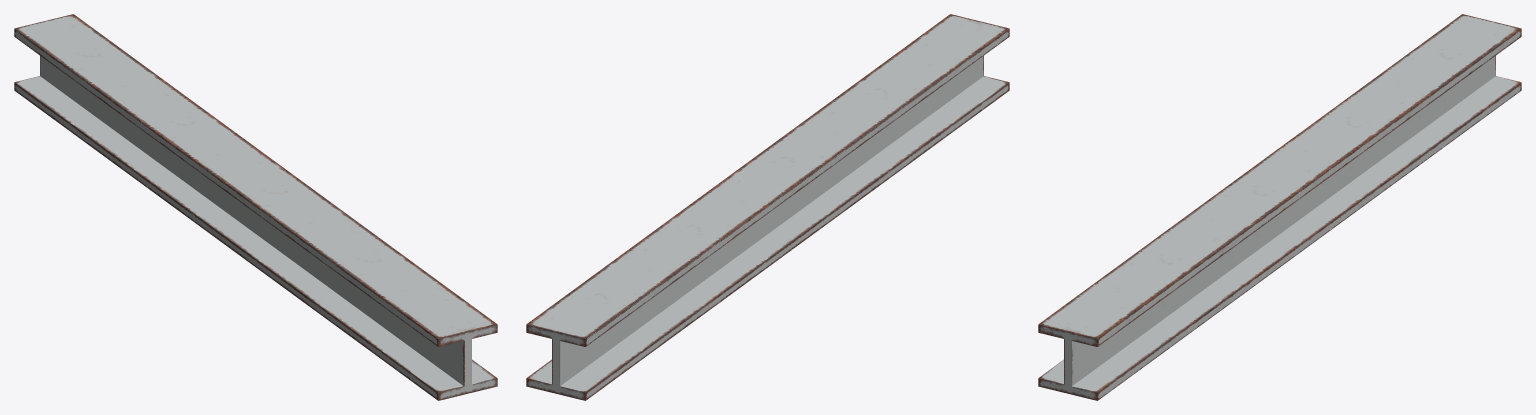
Rendered from mesh_palceholder_beam3.5mdiforigin.fbx.
The picture shows the model from 3 angles, left to right: view 1: azimuth 30°, elevation 25°; view 2: azimuth 150°, elevation 25°; view 3: azimuth 330°, elevation 25°; orthographic projection.
Parts seen in each view (by area): view 1: Cube.001; view 2: Cube.001; view 3: Cube.001.
Part boxes in pixels (x1,y1,x2,y2): Cube.001: (14, 14, 497, 400); Cube.001: (526, 14, 1009, 400); Cube.001: (1038, 14, 1521, 400).
Bounding box in the file's own units: 0.3002 × 0.3002 × 3.72.
